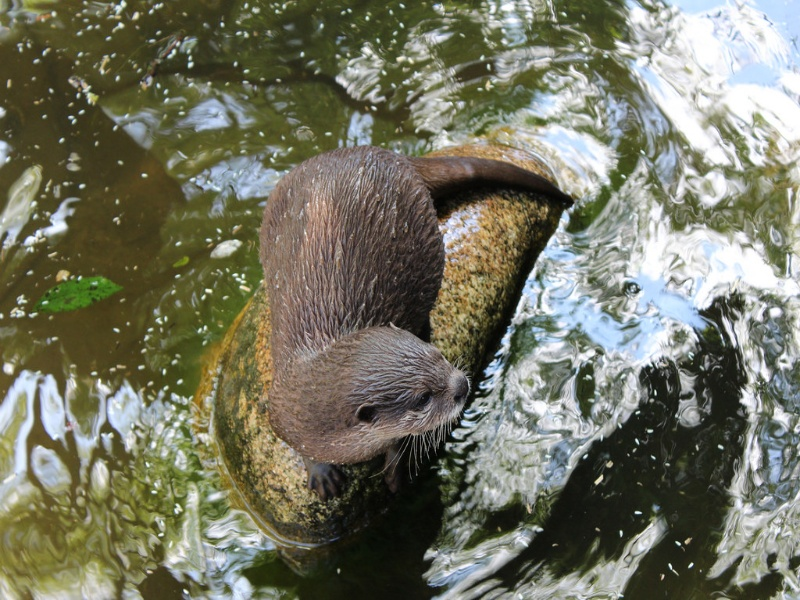minkish: (259, 148, 585, 505)
